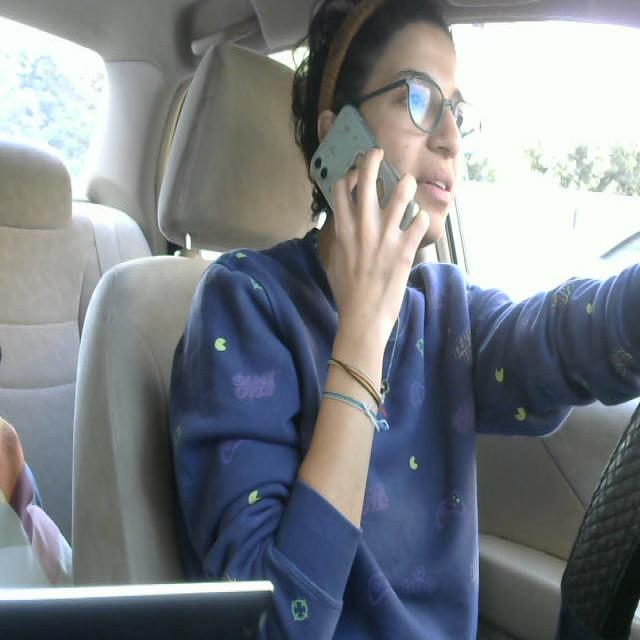mobile use: (306, 94, 432, 272)
